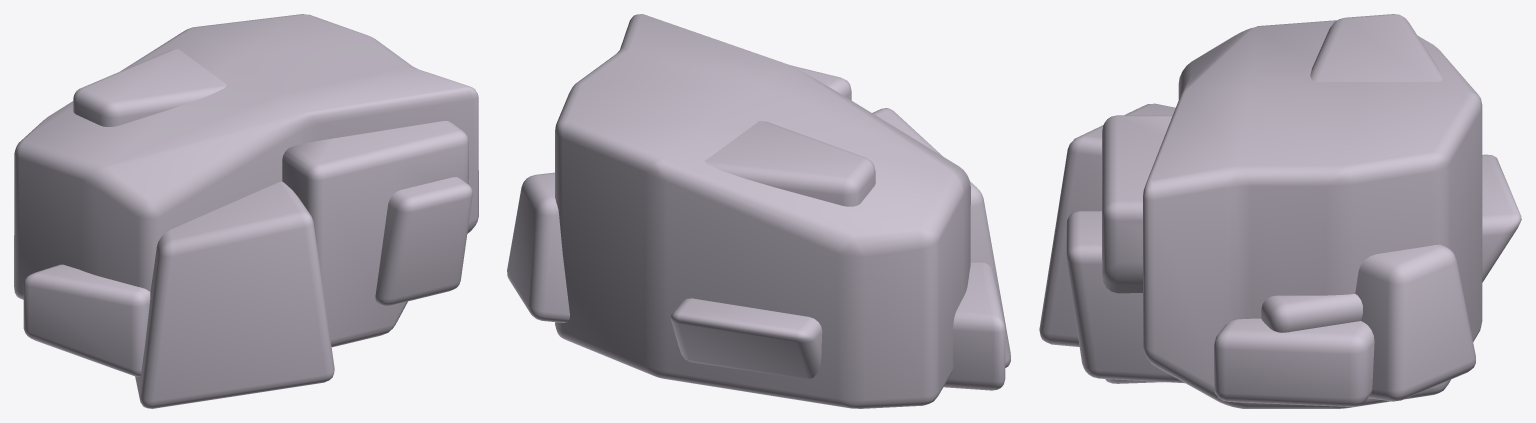
File: SM_Cliffs.fbx
3 views of the same model, side by side, from view 1: azimuth 30°, elevation 25°; view 2: azimuth 150°, elevation 25°; view 3: azimuth 270°, elevation 25° (orthographic). The views are drawn at different scales.
Parts seen in each view (by area): view 1: SM_Cliffs; view 2: SM_Cliffs; view 3: SM_Cliffs.
Part boxes in pixels (x1,y1,x2,y2): SM_Cliffs: [14, 14, 478, 408]; SM_Cliffs: [507, 14, 1010, 408]; SM_Cliffs: [1039, 14, 1521, 408].
Bounding box in the file's own units: 15.23 × 8.63 × 12.62.
